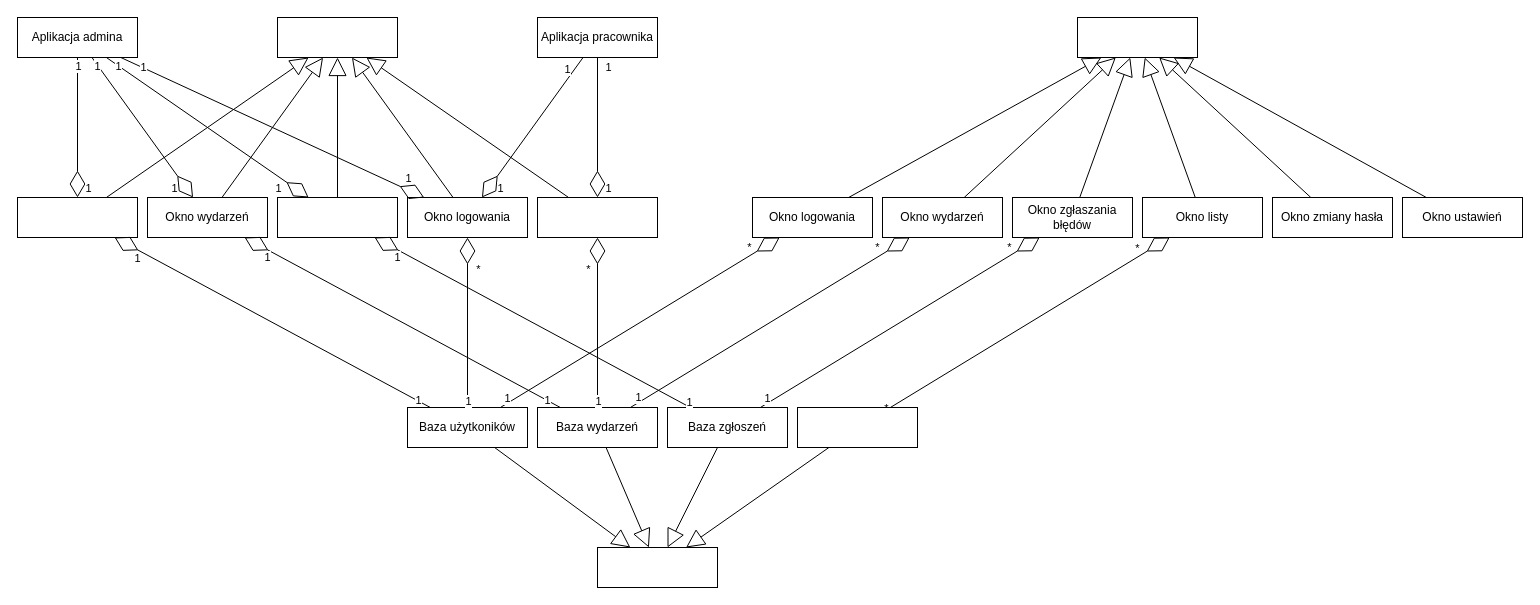
This 1540x605 diagram has some shape labels left out. The box of each missing label's shape, as (x1, y1, x2, y2) in pixels:
Baza danych: (596, 546, 718, 588)
Baza listy: (796, 406, 918, 448)
Okno aplikacji desktopowej: (276, 16, 398, 58)
Okno aplikacji mobilnej: (1076, 16, 1198, 58)
Okno główne pracownika: (536, 196, 658, 238)
Okno użytkowników: (16, 196, 138, 238)
Okno zgłoszeń: (276, 196, 398, 238)
